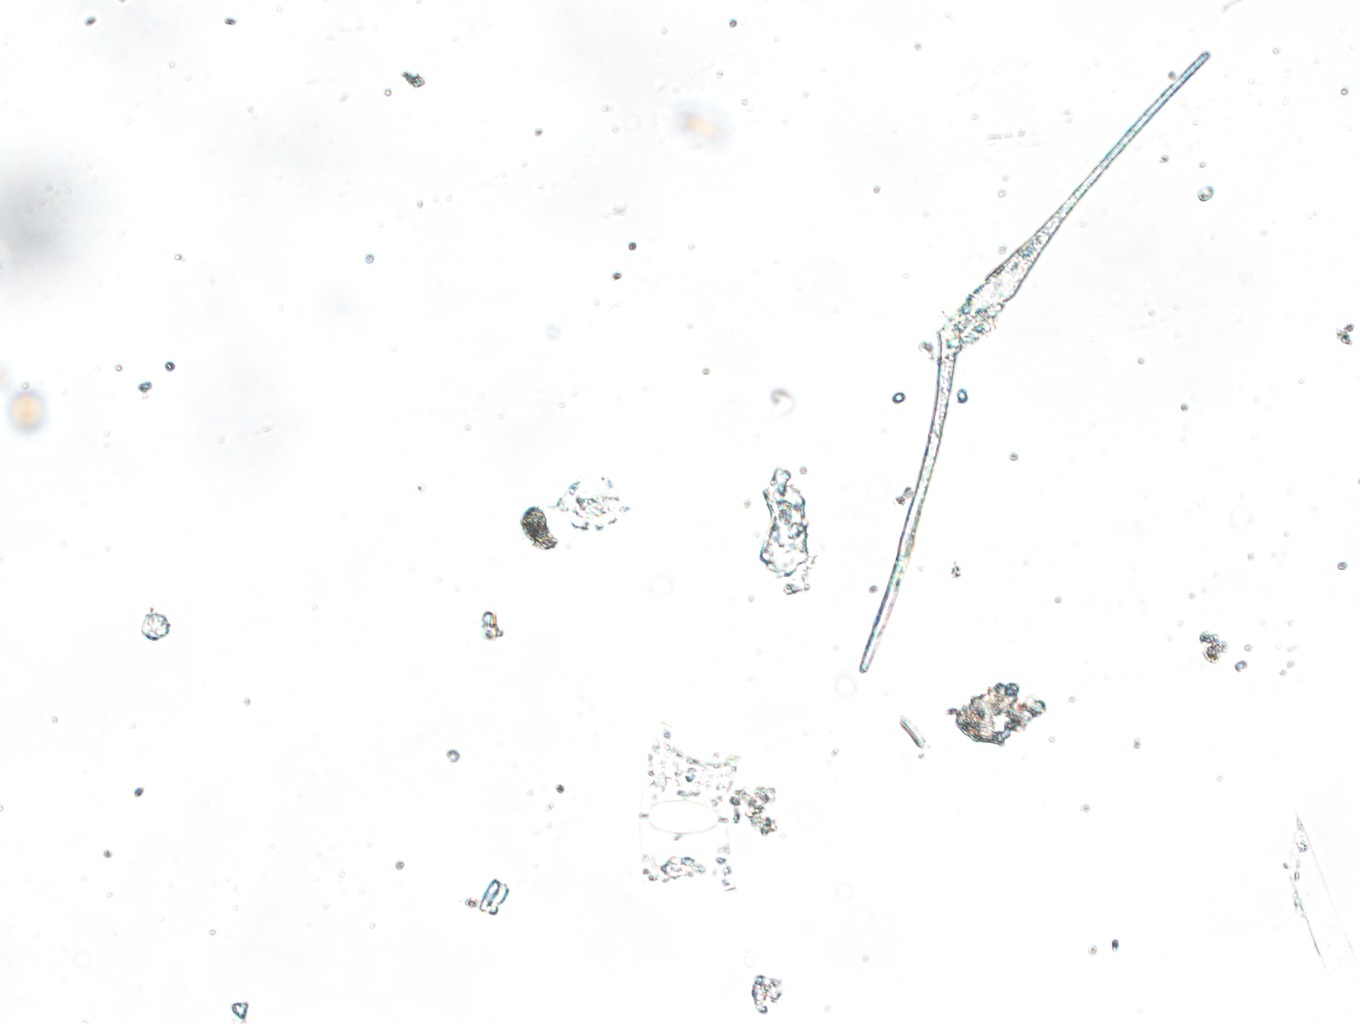ceratium fusus: (846, 51, 1221, 677)
